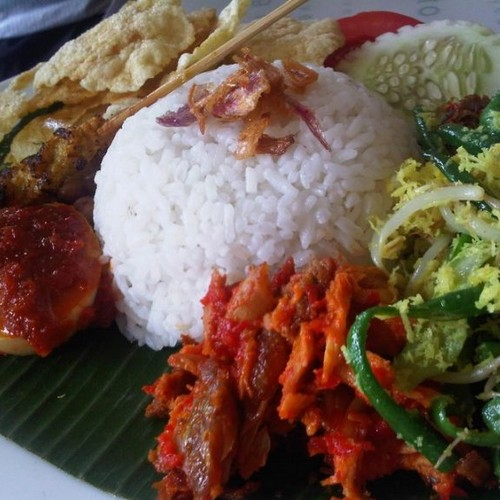nasi tepeng: (20, 37, 482, 444)
